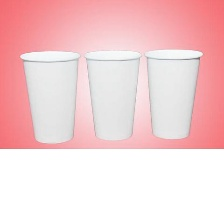paper_cup: (16, 47, 83, 145), (142, 45, 205, 142), (82, 45, 142, 144)
